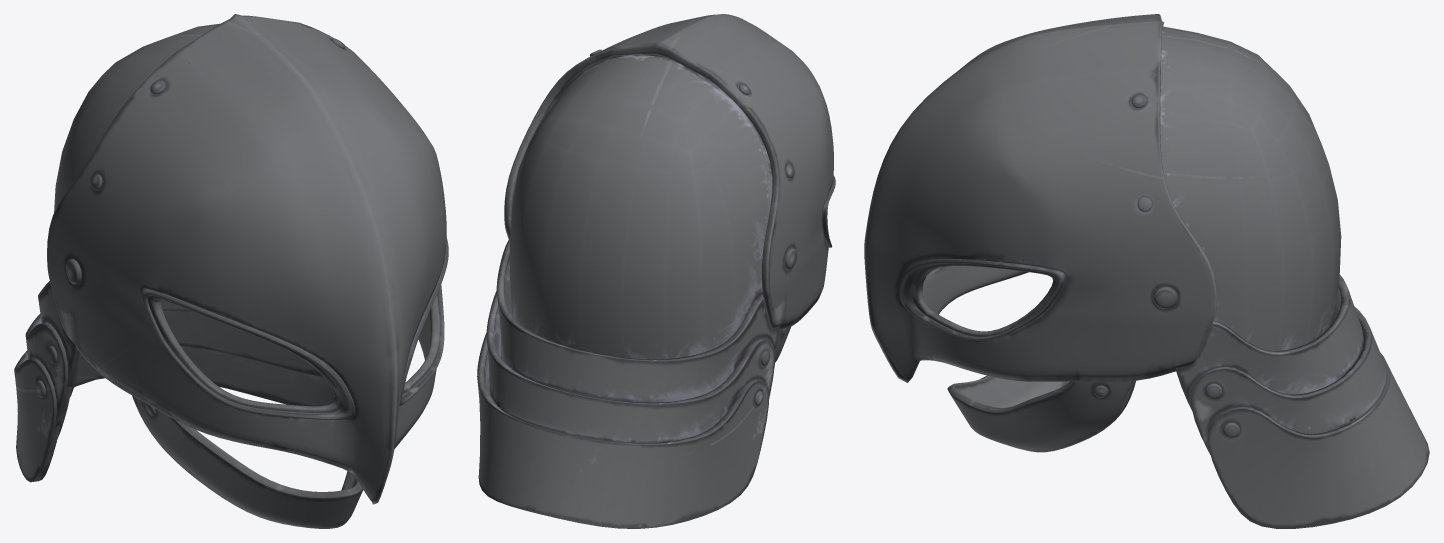
File: griffith-helmet.glb
3 renders of one model, left to right at view 1: azimuth 30°, elevation 25°; view 2: azimuth 150°, elevation 25°; view 3: azimuth 270°, elevation 25°, orthographic. The views are drawn at different scales.
Parts seen in each view (by area): view 1: Plane; view 2: Plane; view 3: Plane.
Part boxes in pixels (x1,y1,x2,y2): Plane: (14, 14, 448, 528); Plane: (477, 14, 835, 528); Plane: (864, 14, 1429, 528).
Size of the model in its own units: 1.7 by 2.39 by 2.76.
Materials: 1 (1 with a texture image).
